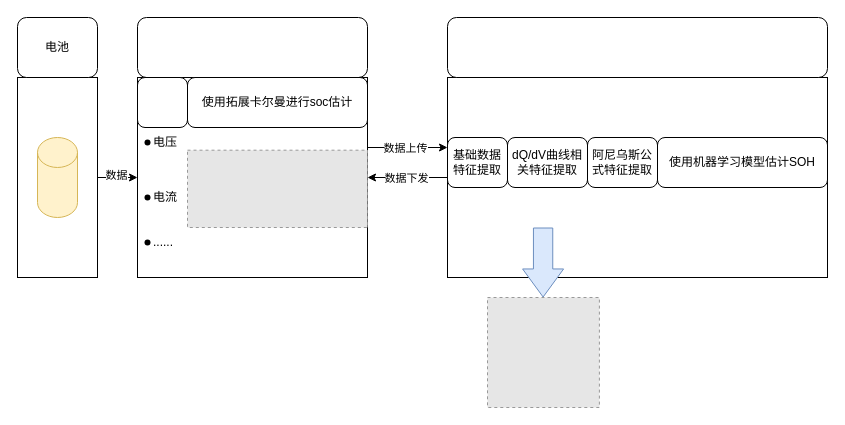
Image size: 845x425. Some labels were removed from this diagram. Grey dashed boxes stand in for pictures. The centre of each missing label's shape, as x and y in pixels:
云端: point 637,47
数据处理: point 162,102
边缘端: point 252,47
